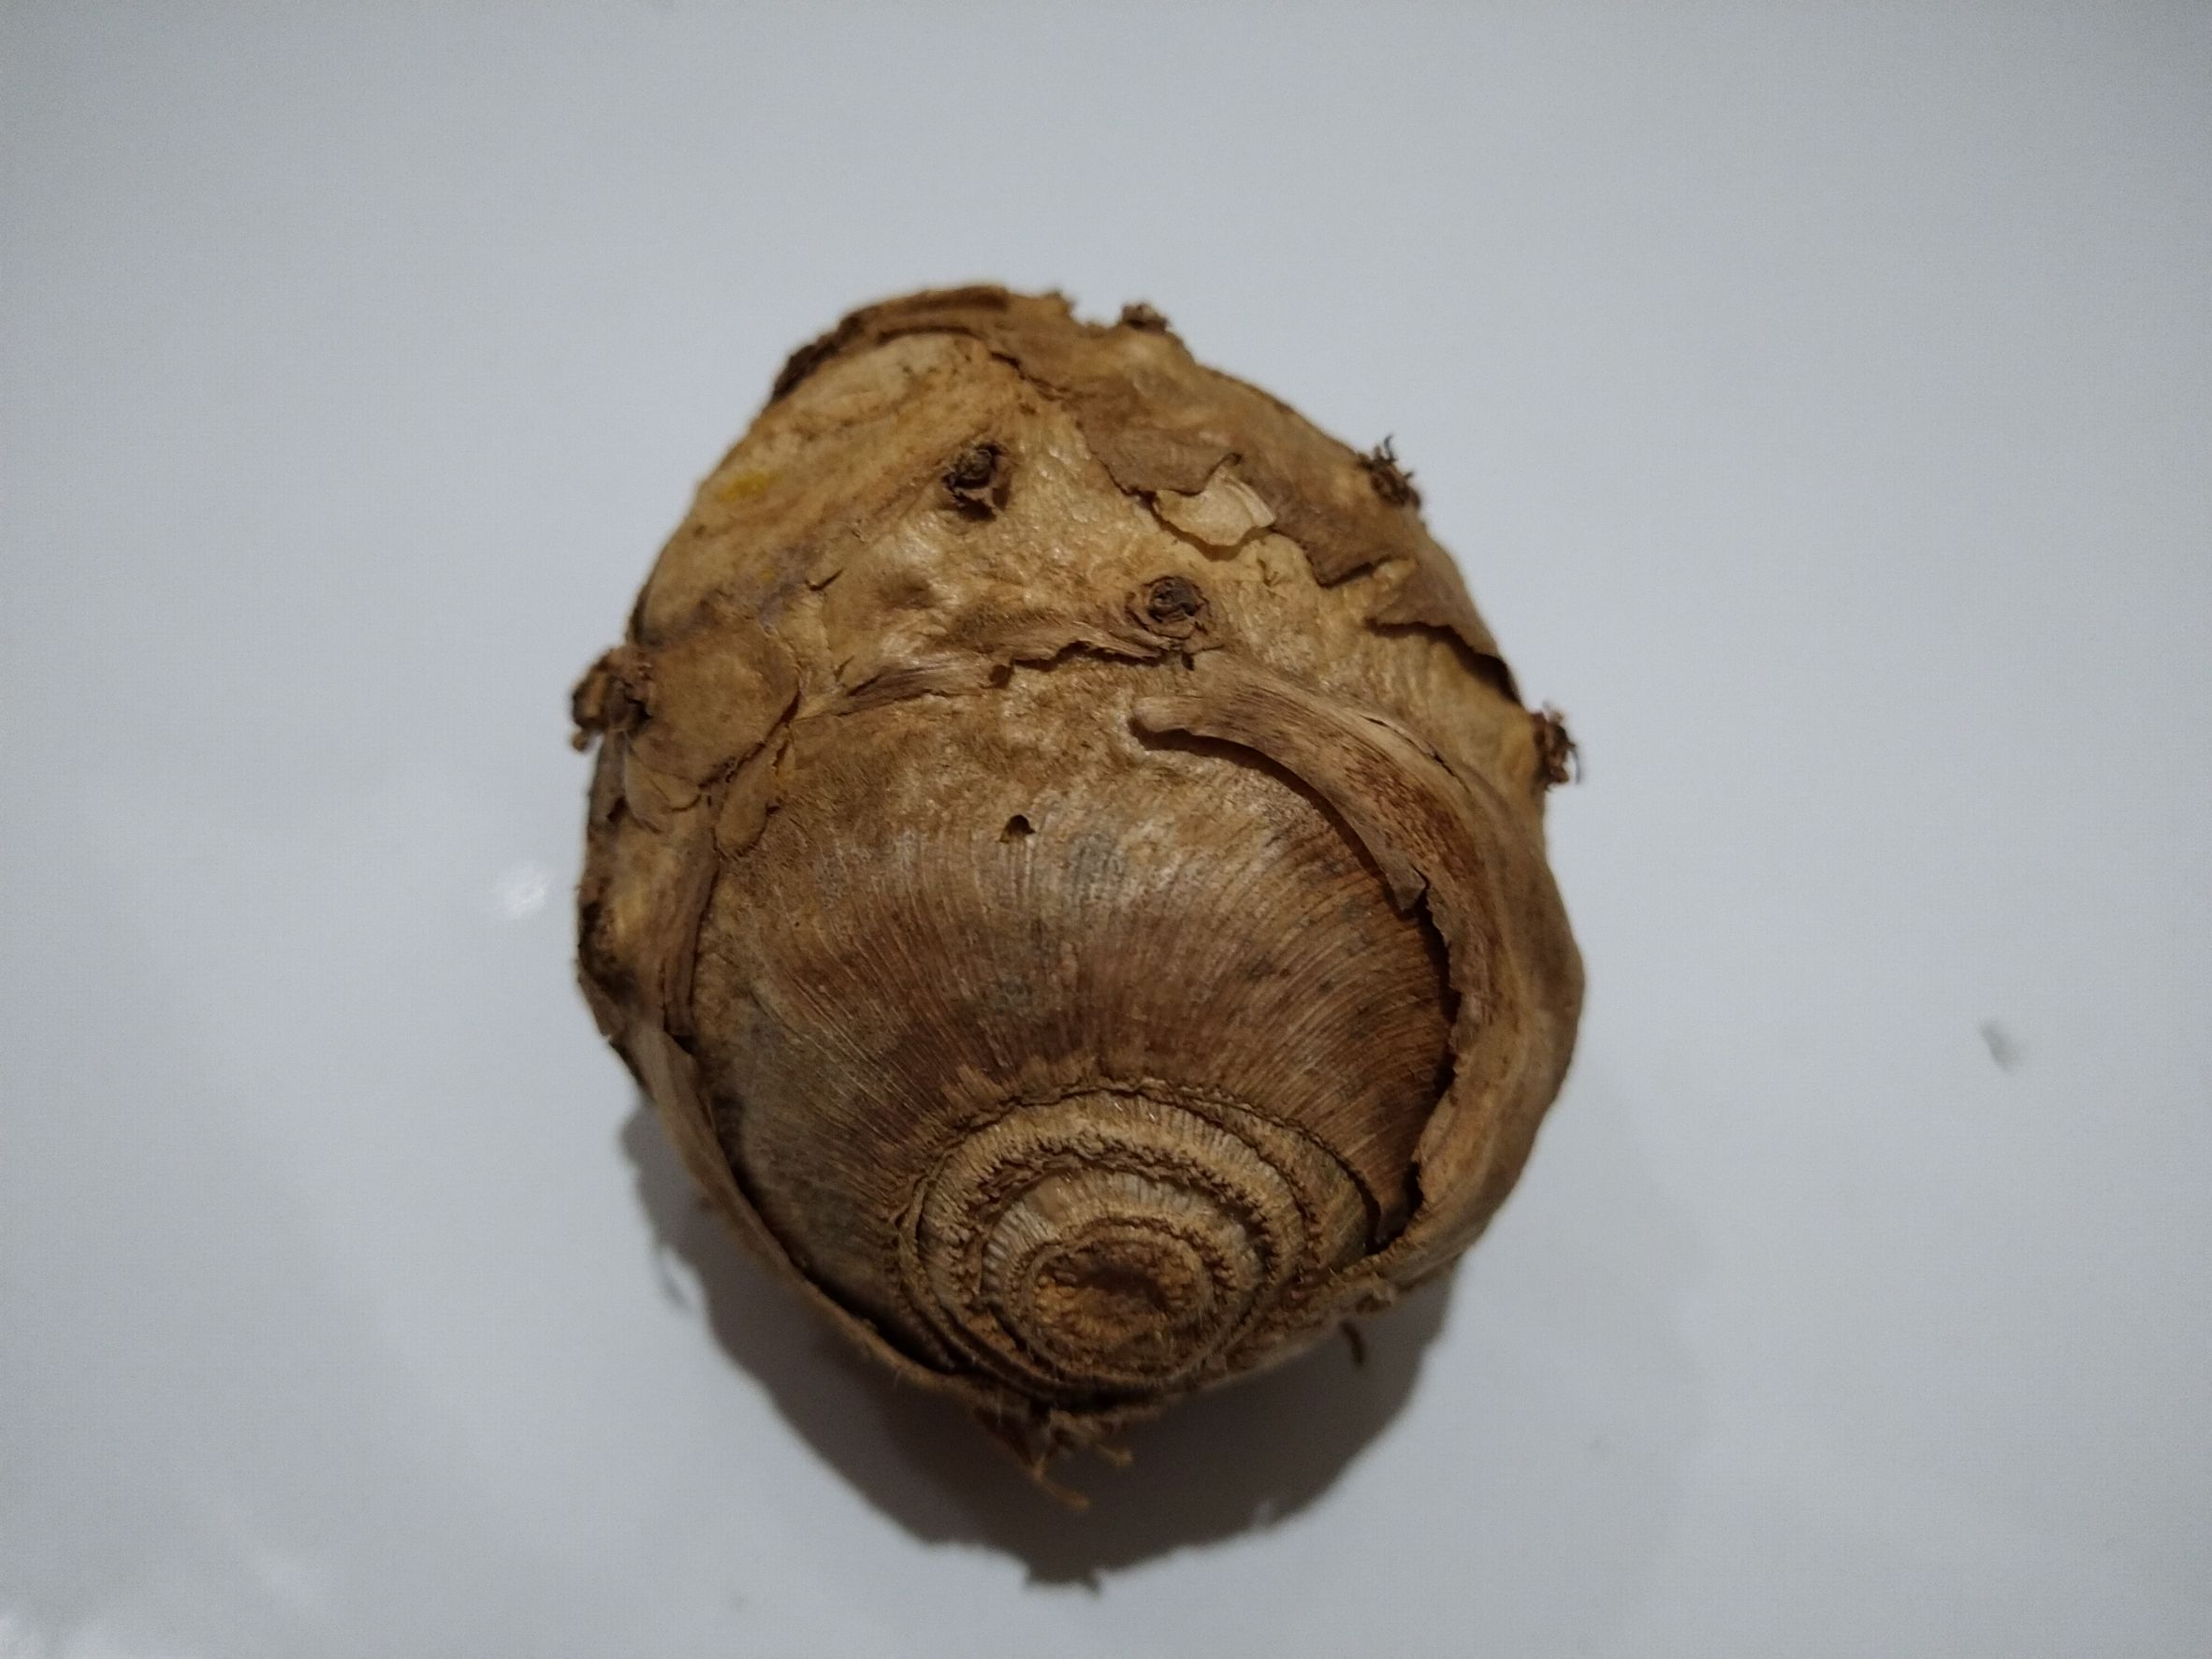Temulawak: (559, 268, 1606, 1438)
